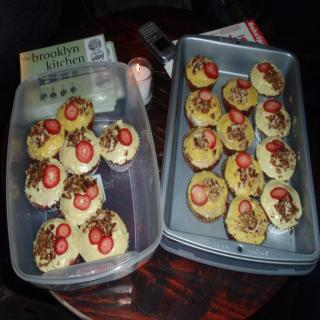Muffin: (184, 53, 304, 246), (21, 96, 140, 273), (184, 171, 228, 225)
